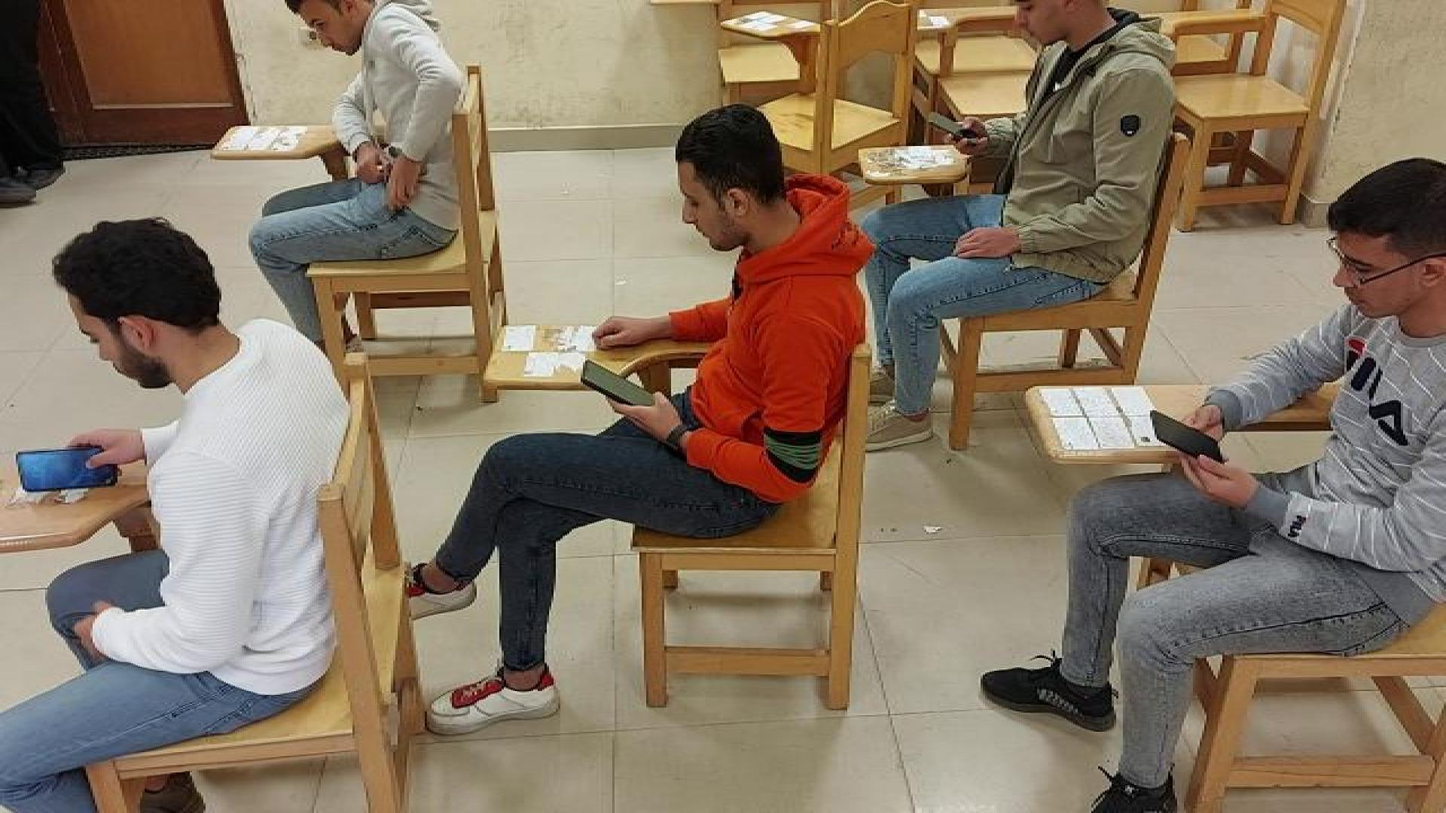phone: (12, 448, 116, 492), (1147, 408, 1226, 465), (581, 356, 651, 405), (926, 110, 978, 145)
